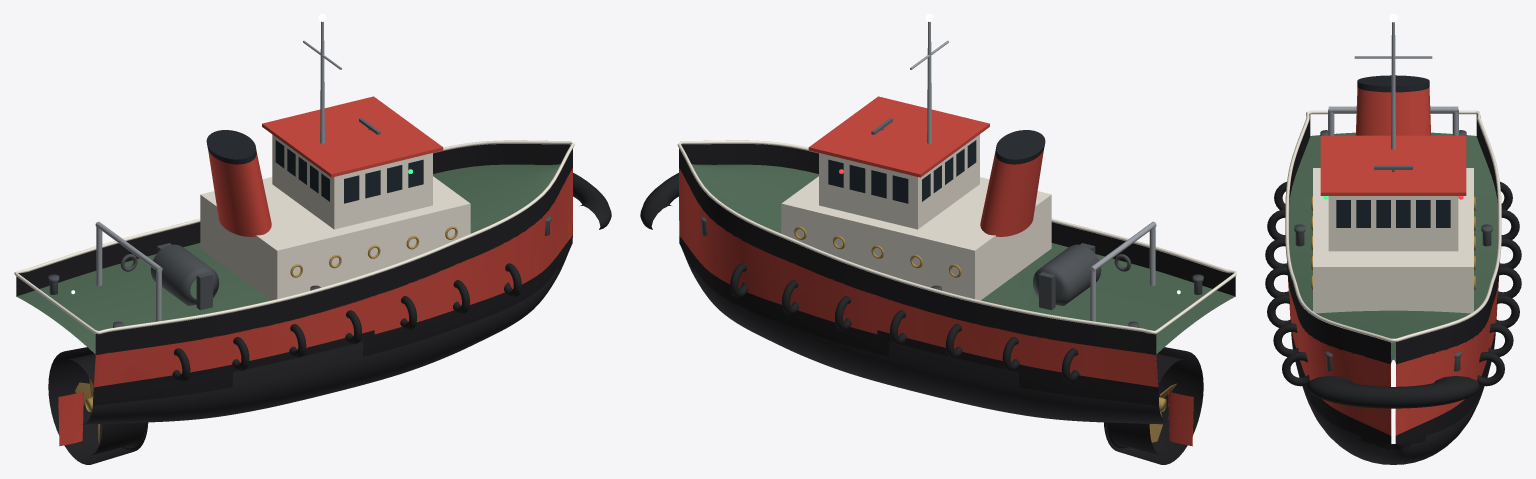
The model's file is tug.glb.
3 views of the same model, side by side, from view 1: azimuth 30°, elevation 25°; view 2: azimuth 150°, elevation 25°; view 3: azimuth 270°, elevation 25° (orthographic). The views are drawn at different scales.
Visible parts, largest first — view 1: hull, bulwark, deckhouse, deck, wheelhouse_roof, wheelhouse, kort_nozzle, capping_rail, funnel_stack, tyre_fenders, towing_winch, wheelhouse_win_s (+7 smaller); view 2: hull, bulwark, deckhouse, deck, wheelhouse_roof, wheelhouse, kort_nozzle, capping_rail, funnel_stack, tyre_fenders, towing_winch, wheelhouse_win_p (+7 smaller); view 3: hull, deckhouse, deck, wheelhouse_roof, tyre_fenders, bulwark, wheelhouse, bow_fender, funnel_stack, capping_rail, wheelhouse_win_f, funnel_cap (+4 smaller).
Part boxes in pixels (x1=…): hull: x1=82, y1=168, x2=572, y2=424; bulwark: x1=16, y1=144, x2=572, y2=354; deckhouse: x1=200, y1=176, x2=470, y2=300; deck: x1=16, y1=164, x2=560, y2=354; wheelhouse_roof: x1=262, y1=96, x2=443, y2=177; wheelhouse: x1=272, y1=134, x2=432, y2=229; kort_nozzle: x1=48, y1=347, x2=148, y2=464; capping_rail: x1=14, y1=140, x2=574, y2=334; funnel_stack: x1=208, y1=149, x2=271, y2=236; tyre_fenders: x1=172, y1=263, x2=521, y2=382; towing_winch: x1=150, y1=244, x2=219, y2=305; wheelhouse_win_s: x1=344, y1=159, x2=423, y2=203; hull: x1=679, y1=168, x2=1169, y2=424; bulwark: x1=679, y1=144, x2=1235, y2=354; deckhouse: x1=781, y1=176, x2=1051, y2=300; deck: x1=691, y1=164, x2=1235, y2=354; wheelhouse_roof: x1=808, y1=96, x2=989, y2=177; wheelhouse: x1=819, y1=134, x2=979, y2=229; kort_nozzle: x1=1104, y1=347, x2=1203, y2=464; capping_rail: x1=677, y1=140, x2=1236, y2=334; funnel_stack: x1=980, y1=150, x2=1043, y2=236; tyre_fenders: x1=730, y1=263, x2=1079, y2=382; towing_winch: x1=1033, y1=244, x2=1101, y2=305; wheelhouse_win_p: x1=828, y1=159, x2=908, y2=203; hull: x1=1288, y1=279, x2=1498, y2=464; deckhouse: x1=1313, y1=168, x2=1473, y2=313; deck: x1=1289, y1=132, x2=1497, y2=362; wheelhouse_roof: x1=1320, y1=135, x2=1466, y2=195; tyre_fenders: x1=1265, y1=182, x2=1521, y2=386; bulwark: x1=1287, y1=114, x2=1499, y2=364; wheelhouse: x1=1328, y1=196, x2=1458, y2=251; bow_fender: x1=1306, y1=375, x2=1480, y2=408; funnel_stack: x1=1355, y1=87, x2=1431, y2=135; capping_rail: x1=1285, y1=110, x2=1501, y2=342; wheelhouse_win_f: x1=1336, y1=200, x2=1450, y2=227; funnel_cap: x1=1357, y1=75, x2=1429, y2=92.
Size of the model in its own units: 25 by 17.2 by 9.89.
